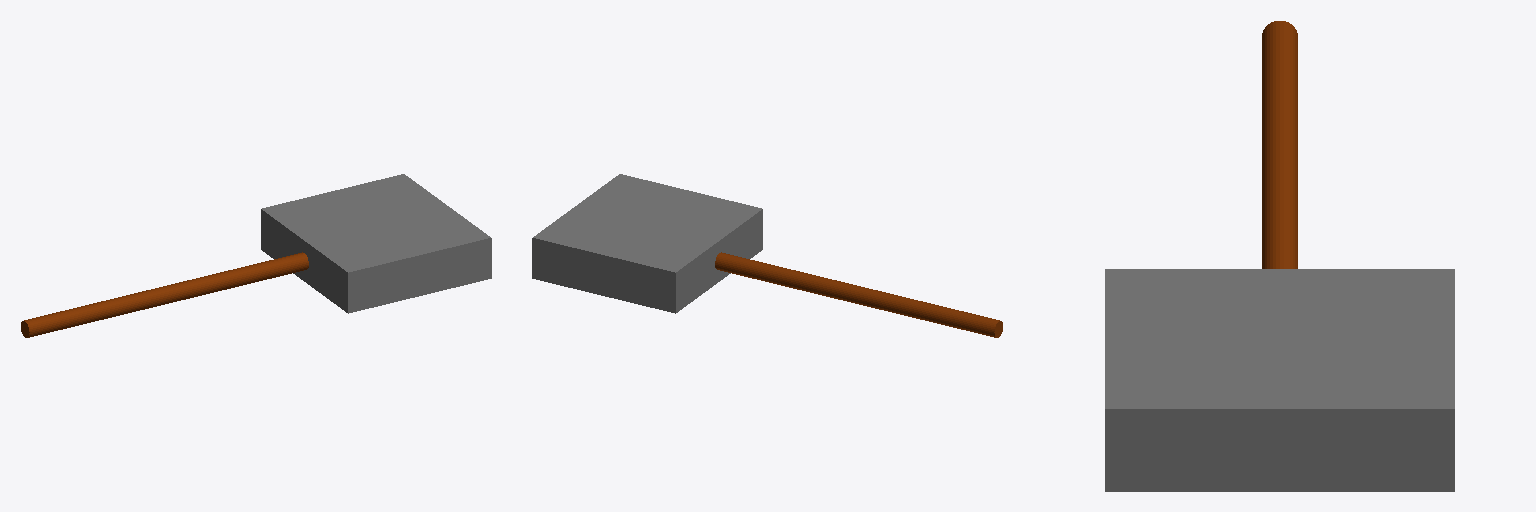
robot.urdf — handle_head:
<?xml version="1.0"?>
<robot name="handle_head">

  <link name="handle_head">
    <!-- Handle -->
    <visual>
              <origin xyz="0 0 0" rpy="0 -1.5707963267948966 0"/>
        <geometry>
          <cylinder length="0.19821163570624167" radius="0.005552263475786716"/>
        </geometry>
        
      <material name="brown">
        <color rgba="0.55 0.27 0.07 1.0"/>
      </material>
    </visual>
    <collision>
              <origin xyz="0 0 0" rpy="0 -1.5707963267948966 0"/>
        <geometry>
          <cylinder length="0.19821163570624167" radius="0.005552263475786716"/>
        </geometry>
        
    </collision>

    <!-- Head -->
    <visual>
              <origin xyz="0.14995352909920764 0 0" rpy="0 0 0"/>
        <geometry>
          <box size="0.10169542249217361 0.10738818174289665 0.0277766386426783"/>
        </geometry>
        
      <material name="gray">
        <color rgba="0.5 0.5 0.5 1.0"/>
      </material>
    </visual>
    <collision>
              <origin xyz="0.14995352909920764 0 0" rpy="0 0 0"/>
        <geometry>
          <box size="0.10169542249217361 0.10738818174289665 0.0277766386426783"/>
        </geometry>
        
    </collision>

    <inertial>
      <origin xyz="0.14107273537280823 0 0" rpy="0 0 0"/>
      <mass value="0.16417219441637776"/>
      <inertia ixx="0.00015850777571879053" iyy="0.0003830663416698394" izz="0.0005215646493762929" ixy="0" ixz="0" iyz="0"/>
    </inertial>
  </link>

</robot>

--- What the picture shows (computed from the rendered views, not written in the file) ---
3 views of the same robot in one strip: view 1: azimuth 30°, elevation 25°; view 2: azimuth 150°, elevation 25°; view 3: azimuth 270°, elevation 25° (orthographic).
Model handle_head with 1 links and 0 joints (none), rooted at handle_head, posed every joint at zero.
Visible links, largest first — view 1: handle_head; view 2: handle_head; view 3: handle_head.
Boxes of the visible links, x1,y1,x2,y2 form: handle_head: (21,174,491,337); handle_head: (532,174,1002,337); handle_head: (1105,21,1454,491).
Size in the robot's own frame: 0.2999 by 0.1074 by 0.0278 metres.
Geometry: primitives only (box / cylinder / sphere), no mesh files.
